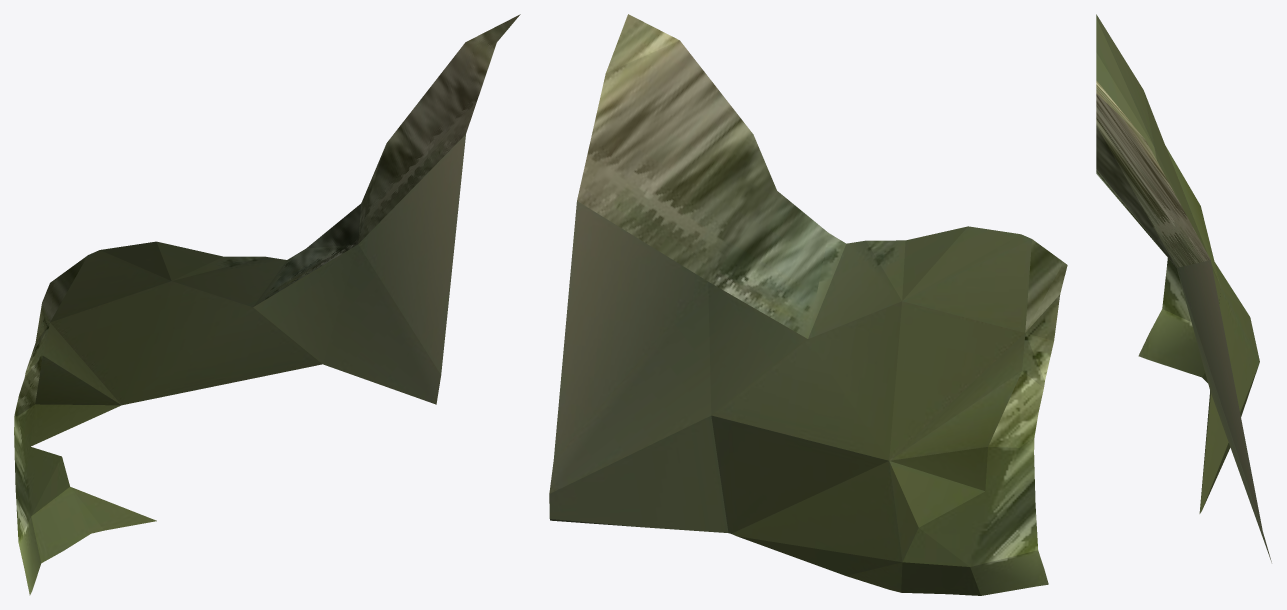
3 renders of one model, left to right at view 1: azimuth 30°, elevation 25°; view 2: azimuth 150°, elevation 25°; view 3: azimuth 270°, elevation 25°, orthographic. The views are drawn at different scales.
Size of the model in its own units: 5.9 by 5.77 by 1.83.
2 materials, 2 textured.
